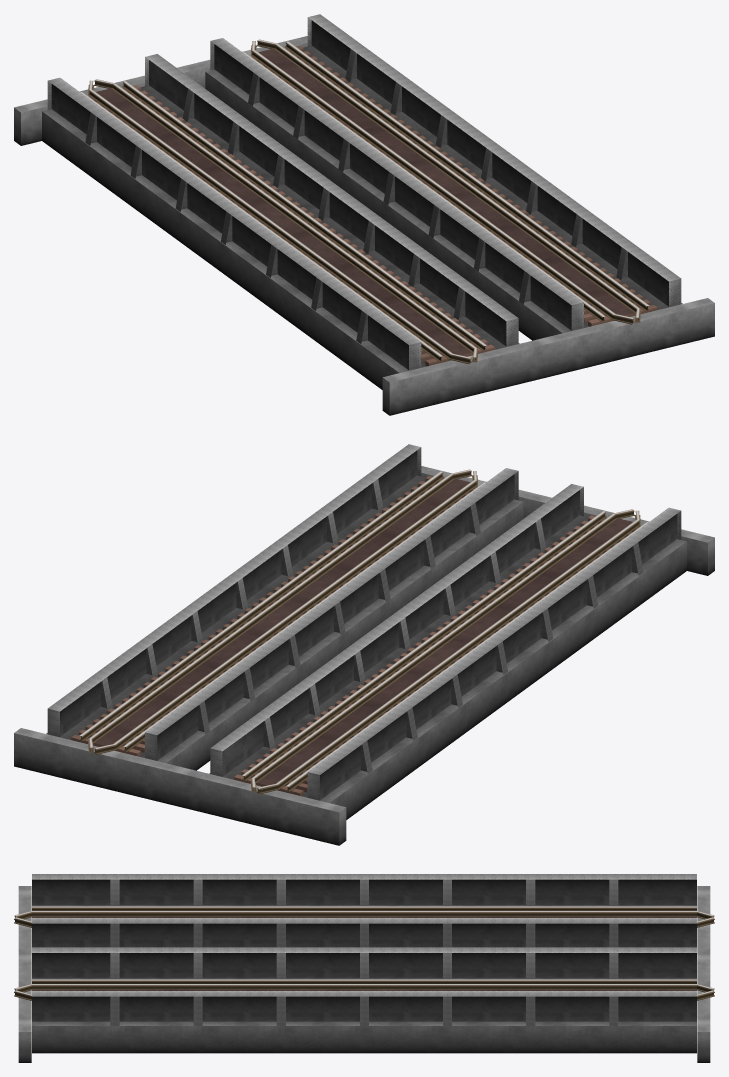
File: SIN_2RAIL_BRIDGE.glb
3 views of the same model, one above another, from view 1: azimuth 30°, elevation 25°; view 2: azimuth 150°, elevation 25°; view 3: azimuth 270°, elevation 25° (orthographic). The views are drawn at different scales.
Visible parts, largest first — view 1: obj16, J08, J00, obj4, obj10, obj8, obj11, obj9, bone0, obj5, obj12; view 2: obj16, J00, J08, bone0, obj8, obj10, obj9, obj4, obj11, obj5; view 3: obj16, J08, J00.
Boxes of the visible parts, <box> form: obj16: <box>42,14,682,389</box>; J08: <box>382,298,714,415</box>; J00: <box>14,36,307,145</box>; obj4: <box>407,278,657,366</box>; obj10: <box>357,241,614,329</box>; obj8: <box>176,109,433,197</box>; obj11: <box>227,146,476,228</box>; obj9: <box>270,178,520,260</box>; bone0: <box>89,45,339,128</box>; obj5: <box>313,209,563,292</box>; obj12: <box>133,77,382,160</box>; obj16: <box>46,444,686,819</box>; J00: <box>14,728,346,845</box>; J08: <box>421,466,714,575</box>; bone0: <box>71,708,321,796</box>; obj8: <box>158,639,415,727</box>; obj10: <box>338,507,595,595</box>; obj9: <box>252,576,501,658</box>; obj4: <box>389,475,639,558</box>; obj11: <box>208,608,458,690</box>; obj5: <box>295,544,545,627</box>; obj16: <box>32,874,696,1053</box>; J08: <box>14,886,31,1062</box>; J00: <box>697,886,714,1062</box>.
Bounding box in the file's own units: 26 × 4.51 × 52.7.
Materials: 18 (15 with a texture image).
